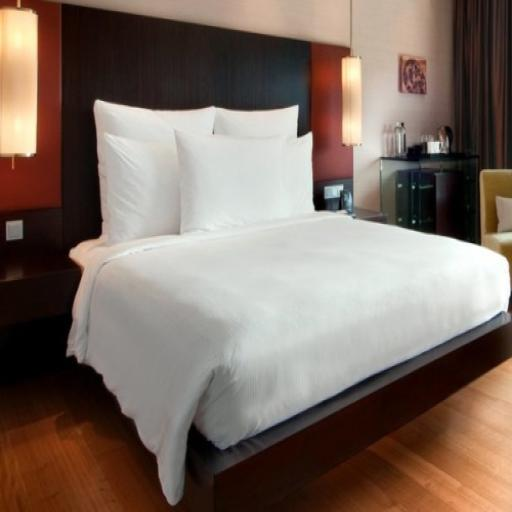bed: (65, 99, 512, 506)
sofa: (480, 170, 512, 290)
